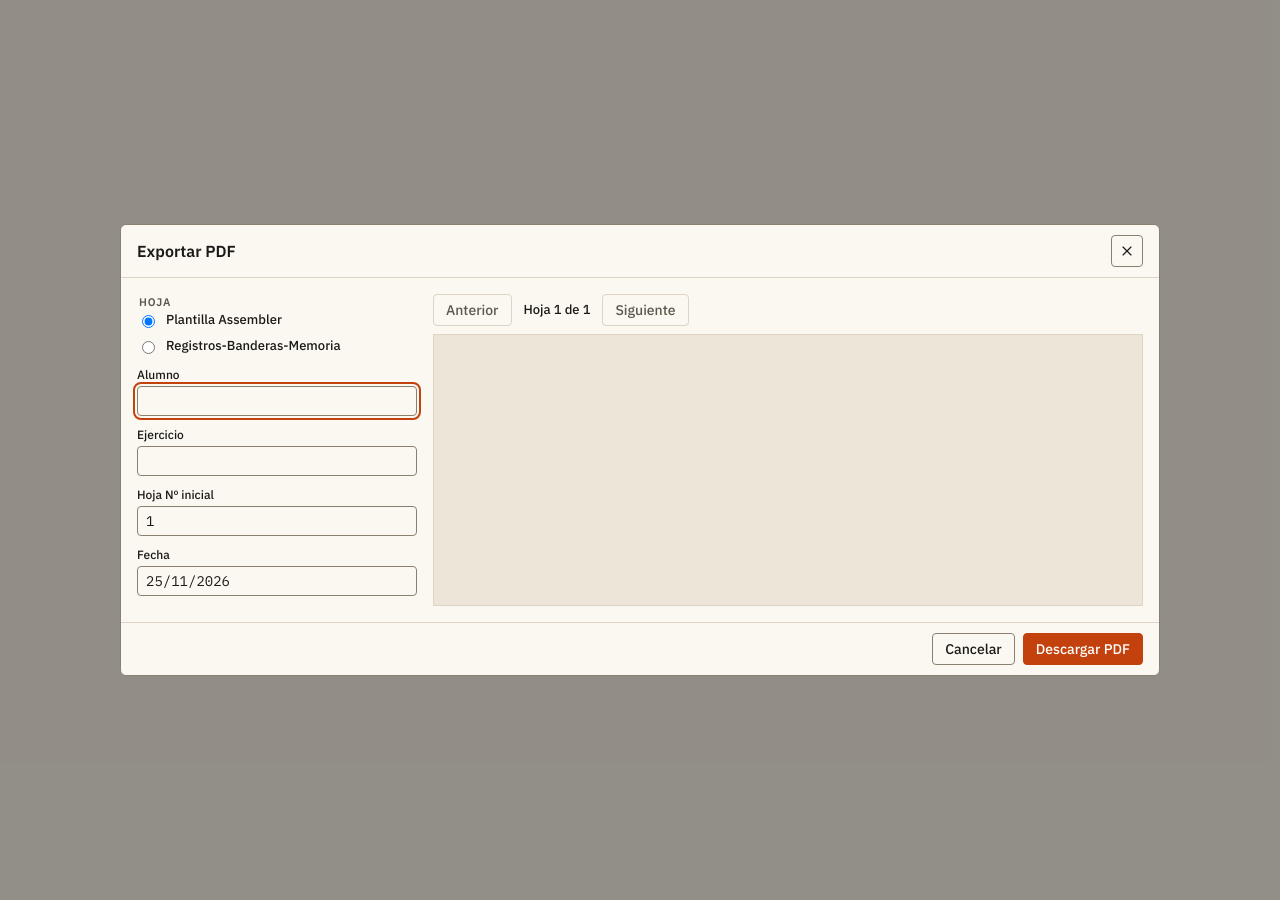
Scenario: ExportDialog › opcode inválido: avisa del error y sigue permitiendo descargar
Click the radio button labelled "Registros-Banderas-Memoria": (148, 348) [142, 341, 155, 354]
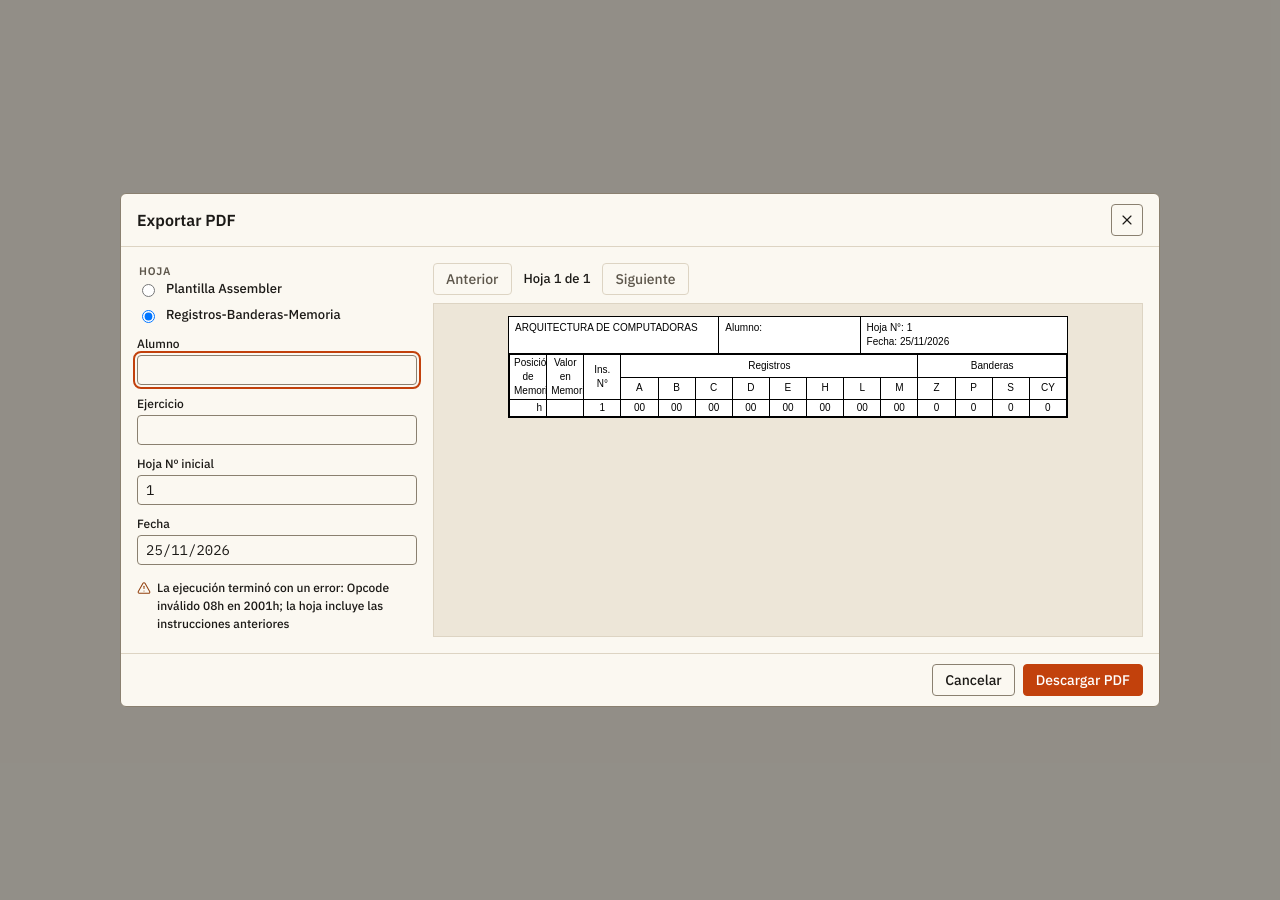
Expected: the button "Descargar PDF" is enabled, [1023, 664, 1143, 696]
Now the text "La ejecución terminó con un error" is shown, box [157, 580, 389, 631]
